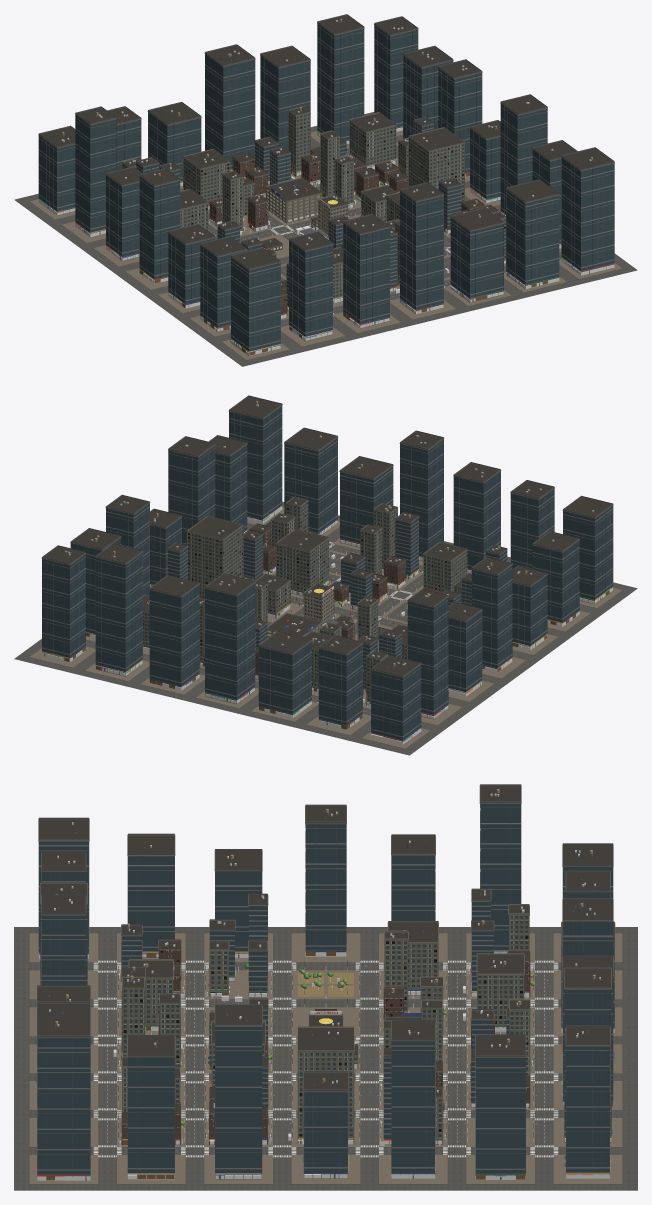
File: map_hospital.glb
The picture shows the model from 3 angles, top to bottom: view 1: azimuth 30°, elevation 25°; view 2: azimuth 150°, elevation 25°; view 3: azimuth 270°, elevation 25°; orthographic projection. The views are drawn at different scales.
Visible parts, largest first — view 1: Ground_road, Ring_168_168, Ground_sidewalk, Ring_0_-168, Ring_0_168, Ring_112_-168, Ring_112_168, Ring_-168_168, Ring_-56_168, Ring_56_168, Ring_-168_-112, Ring_-112_168 (+32 smaller); view 2: Ground_road, Ring_0_-168, Ground_sidewalk, Ring_112_-168, Ring_56_-168, Ring_168_168, Ring_168_-168, Ring_112_168, Ring_0_168, Ring_-168_-112, Ring_-56_168, Ring_-56_-168 (+34 smaller); view 3: Ground_road, Ground_sidewalk, Ring_168_168, Ring_168_56, Ring_168_-112, Ring_168_-56, Ring_168_112, Ring_168_-168, Ground_markings, Ring_-168_0, Ring_-168_-112, Ring_-168_112 (+38 smaller).
Boxes of the visible parts, x1,y1,x2,y2 form: Ground_road: (14, 112, 637, 366); Ring_168_168: (561, 147, 614, 274); Ground_sidewalk: (30, 130, 621, 360); Ring_0_-168: (204, 44, 255, 170); Ring_0_168: (399, 182, 444, 313); Ring_112_-168: (317, 14, 364, 144); Ring_112_168: (505, 179, 559, 288); Ring_-168_168: (230, 247, 281, 355); Ring_-56_168: (342, 213, 390, 328); Ring_56_168: (450, 207, 504, 302); Ring_-168_-112: (75, 106, 116, 236); Ring_-112_168: (288, 231, 333, 341); Ground_road: (14, 501, 637, 755); Ring_0_-168: (204, 573, 255, 704); Ground_sidewalk: (30, 507, 621, 748); Ring_112_-168: (95, 543, 143, 676); Ring_56_-168: (149, 574, 200, 689); Ring_168_168: (228, 395, 282, 521); Ring_168_-168: (41, 545, 86, 661); Ring_112_168: (284, 427, 338, 534); Ring_0_168: (399, 430, 444, 561); Ring_-168_-112: (407, 588, 448, 719); Ring_-56_168: (453, 462, 501, 570); Ring_-56_-168: (258, 631, 312, 716); Ground_road: (14, 927, 637, 1190); Ground_sidewalk: (29, 933, 622, 1184); Ring_168_168: (36, 1013, 91, 1180); Ring_168_56: (214, 1004, 263, 1179); Ring_168_-112: (475, 1034, 526, 1179); Ring_168_-56: (391, 1020, 436, 1178); Ring_168_112: (127, 1035, 175, 1178); Ring_168_-168: (564, 1025, 610, 1177); Ground_markings: (93, 960, 558, 1157); Ring_-168_0: (305, 804, 346, 955); Ring_-168_-112: (479, 784, 521, 952); Ring_-168_112: (127, 833, 175, 957).
Size of the model in its own units: 400 by 113 by 400.
Materials: 72 (9 with a texture image).
